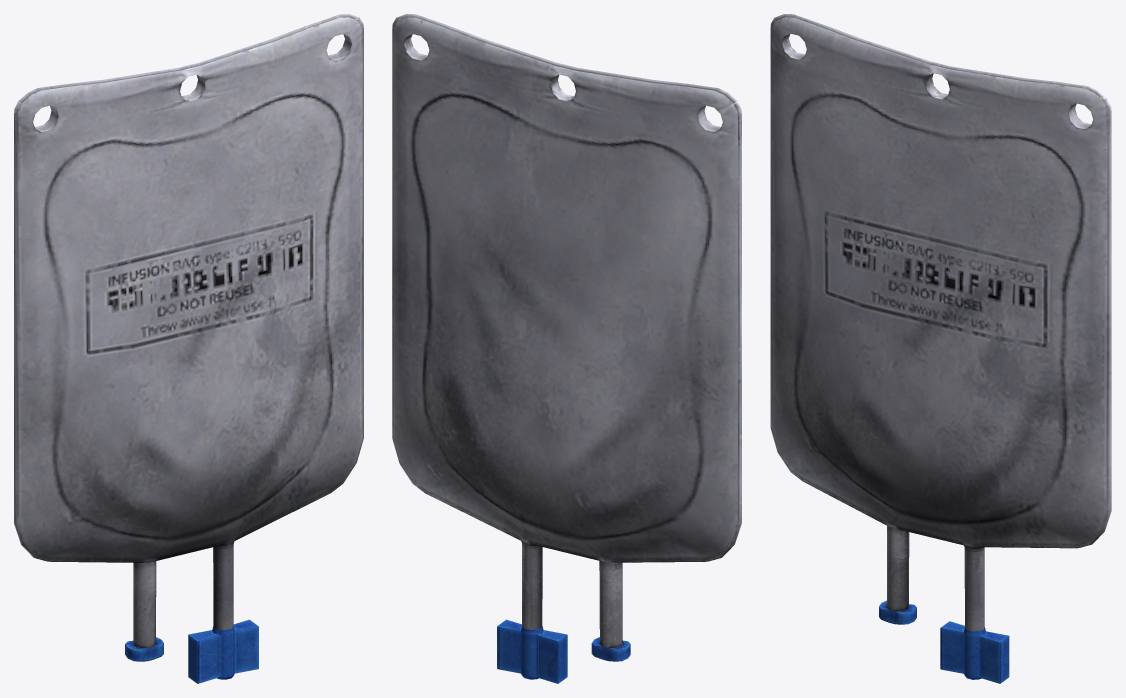
Rendered from dripbag_unspecified.DAE.
3 renders of one model, left to right at view 1: azimuth 30°, elevation 25°; view 2: azimuth 150°, elevation 25°; view 3: azimuth 330°, elevation 25°, orthographic. The views are drawn at different scales.
Size of the model in its own units: 0.2292 by 0.3962 by 0.0363.
